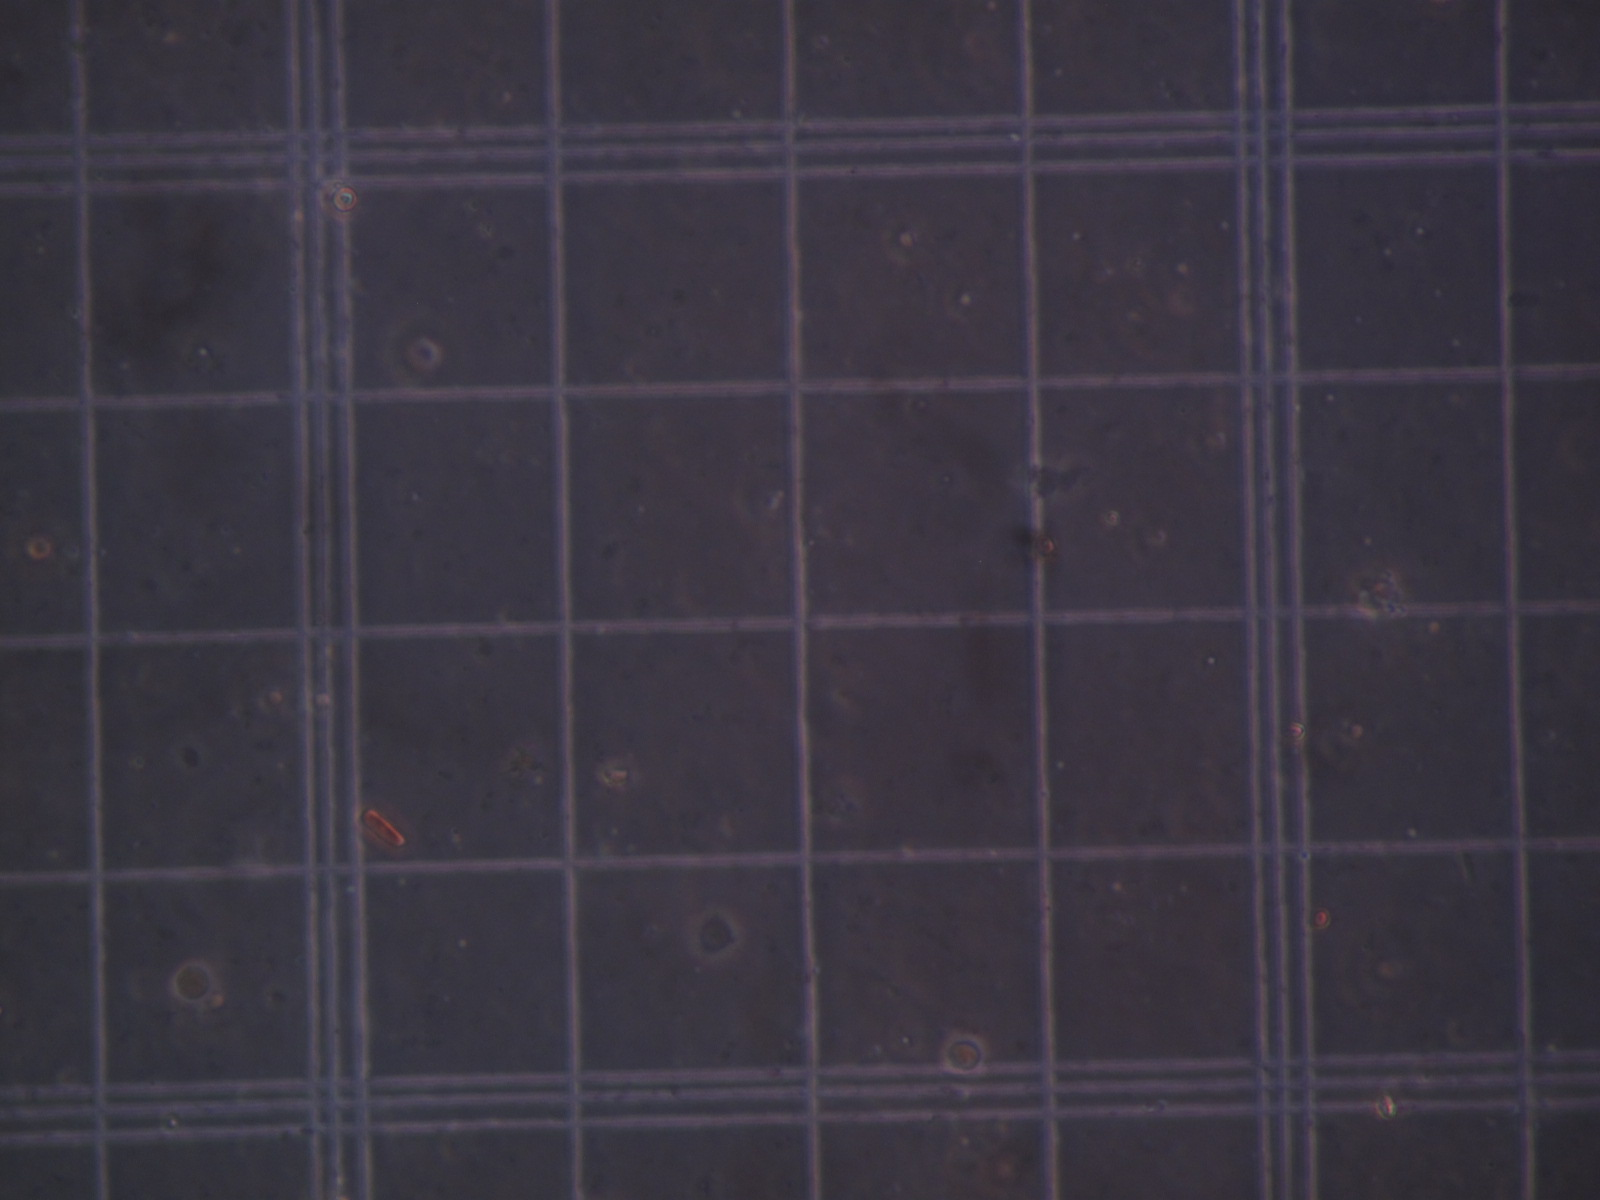hemo: (379, 308, 443, 386), (687, 903, 743, 962), (936, 1027, 985, 1076), (170, 959, 217, 1007), (315, 179, 363, 224)
